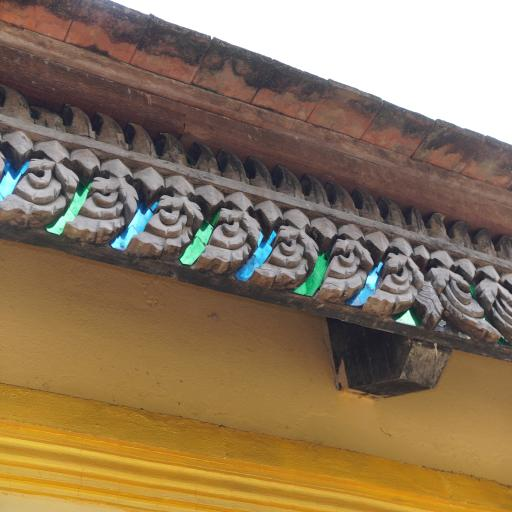la: (3, 138, 74, 249), (65, 162, 135, 256), (136, 175, 196, 277), (199, 195, 258, 282), (432, 258, 490, 346), (365, 242, 420, 332), (316, 225, 370, 314), (259, 215, 313, 302), (479, 269, 512, 349)
